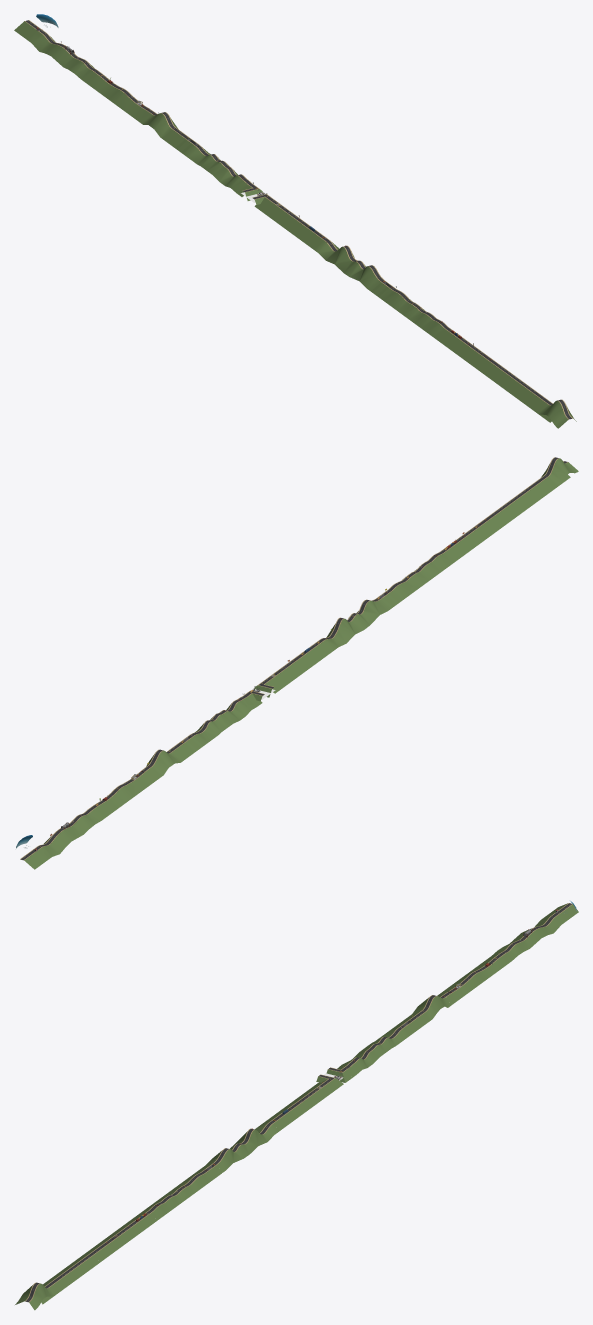
File: level_3_winter.glb
3 renders of one model, top to bottom at view 1: azimuth 30°, elevation 25°; view 2: azimuth 150°, elevation 25°; view 3: azimuth 330°, elevation 25°, orthographic.
Parts seen in each view (by area): view 1: road_hard_03, road_easy_05, road_normal_05, road_normal_01, road_easy_00, road_easy_00 (1), road_easy_06, road_easy_00 (2), road_mountain_angle_45; view 2: road_hard_03, road_normal_05, road_easy_05, road_normal_01, road_easy_00, road_easy_00 (1), road_easy_06, road_easy_00 (2), road_mountain_angle_45, road_mountain_angle_55; view 3: road_hard_03, road_easy_05, road_normal_05, road_easy_00, road_easy_00 (1), road_normal_01, road_easy_06, road_easy_00 (2).
Part boxes in pixels (box(x1,y1,x2,y2)): road_hard_03: box(313, 239, 385, 291); road_easy_05: box(379, 287, 450, 338); road_normal_05: box(183, 143, 254, 195); road_normal_01: box(27, 29, 98, 81); road_easy_00: box(256, 197, 327, 249); road_easy_00 (1): box(436, 329, 507, 380); road_easy_06: box(84, 71, 155, 123); road_easy_00 (2): box(493, 370, 552, 422); road_mountain_angle_45: box(537, 399, 576, 428); road_hard_03: box(319, 598, 391, 650); road_normal_05: box(189, 694, 260, 745); road_easy_05: box(384, 550, 455, 602); road_normal_01: box(33, 808, 104, 860); road_easy_00: box(262, 640, 333, 691); road_easy_00 (1): box(442, 509, 513, 560); road_easy_06: box(90, 766, 161, 818); road_easy_00 (2): box(499, 474, 570, 518); road_mountain_angle_45: box(541, 457, 578, 486); road_mountain_angle_55: box(146, 749, 182, 776); road_hard_03: box(202, 1122, 279, 1172); road_easy_05: box(137, 1170, 213, 1220); road_normal_05: box(337, 1026, 409, 1077); road_easy_00: box(260, 1080, 336, 1130); road_easy_00 (1): box(80, 1211, 156, 1262); road_normal_01: box(489, 913, 565, 962); road_easy_06: box(437, 954, 508, 1004); road_easy_00 (2): box(41, 1253, 99, 1304).
Size of the model in its own units: 58.84 by 43 by 1856.
Materials: 8 (7 with a texture image).
